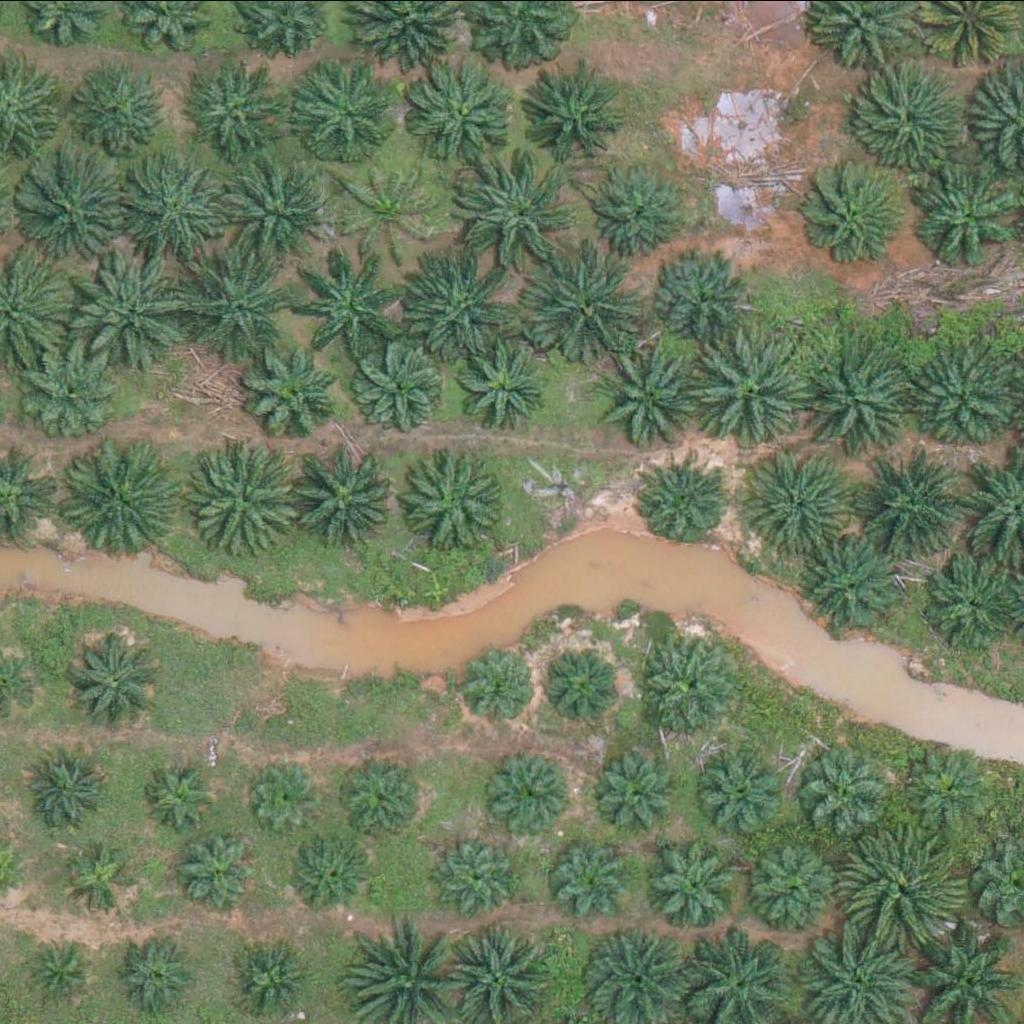Kelapa_Sawit: (901, 335, 1015, 448), (529, 247, 643, 360), (806, 344, 920, 457), (742, 446, 856, 559), (60, 440, 174, 553), (403, 246, 516, 359), (77, 256, 190, 369), (184, 444, 297, 557), (843, 830, 956, 943), (404, 53, 518, 165), (115, 152, 229, 264), (228, 151, 342, 263), (793, 158, 907, 270), (850, 448, 964, 560), (293, 438, 407, 550), (12, 144, 126, 256), (856, 72, 969, 184), (459, 155, 572, 267), (290, 250, 403, 362), (175, 246, 288, 358), (583, 334, 696, 446), (697, 330, 810, 442), (332, 157, 433, 257), (650, 250, 751, 350), (350, 340, 451, 440), (446, 336, 547, 436), (402, 447, 503, 547), (66, 632, 167, 732), (635, 634, 736, 734), (696, 742, 797, 842), (803, 534, 904, 634), (523, 64, 623, 164), (194, 60, 294, 160), (295, 67, 395, 167), (596, 161, 696, 261), (243, 343, 343, 443), (742, 832, 842, 932), (646, 828, 746, 928), (20, 340, 120, 440), (172, 827, 261, 915), (77, 70, 165, 158), (116, 929, 204, 1017), (339, 757, 427, 845), (900, 743, 988, 831), (549, 834, 637, 922), (25, 741, 113, 829), (636, 459, 724, 546), (287, 829, 375, 916), (435, 836, 523, 923), (492, 747, 580, 834), (538, 640, 626, 727), (808, 746, 896, 833), (587, 751, 675, 838), (252, 758, 328, 833), (465, 649, 541, 724), (25, 935, 101, 1010), (63, 843, 138, 918), (147, 755, 222, 830)
